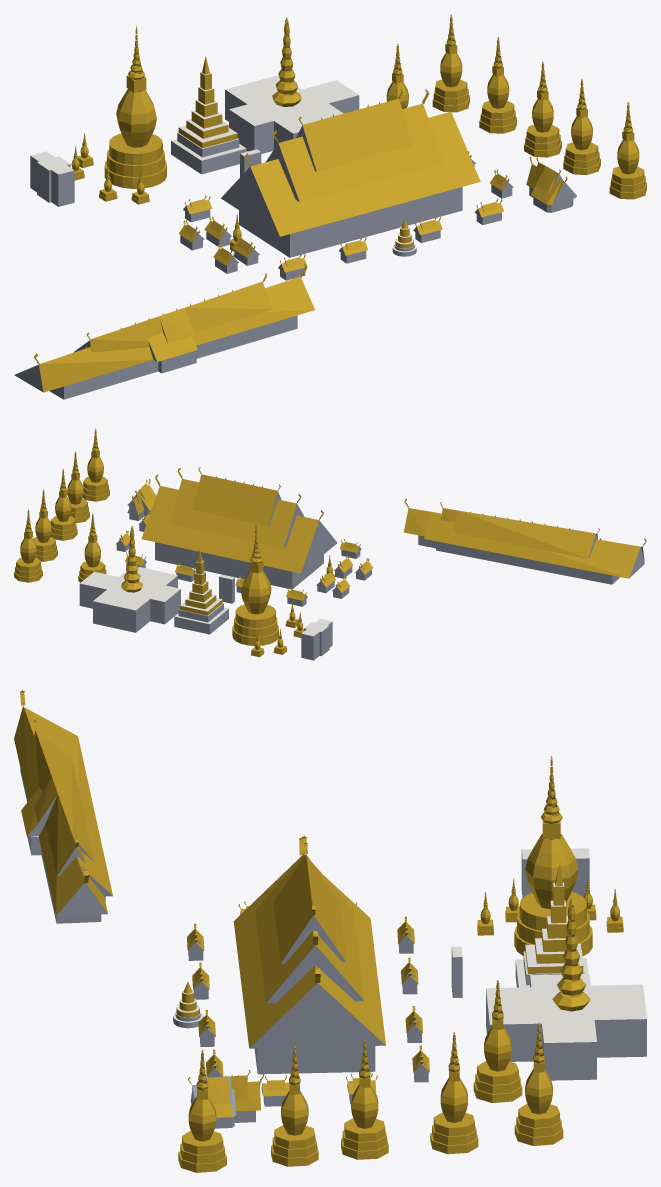
Rendered from grand-palace.glb.
The picture shows the model from 3 angles, top to bottom: view 1: azimuth 30°, elevation 25°; view 2: azimuth 150°, elevation 25°; view 3: azimuth 270°, elevation 25°; orthographic projection. The views are drawn at different scales.
Parts seen in each view (by area): view 1: grand-palace-stand-in; view 2: grand-palace-stand-in; view 3: grand-palace-stand-in.
Boxes of the visible parts, bbox=[...] form: grand-palace-stand-in: bbox=[14, 14, 646, 399]; grand-palace-stand-in: bbox=[14, 428, 646, 660]; grand-palace-stand-in: bbox=[14, 689, 646, 1172].
Bounding box in the file's own units: 198 × 41.99 × 127.
